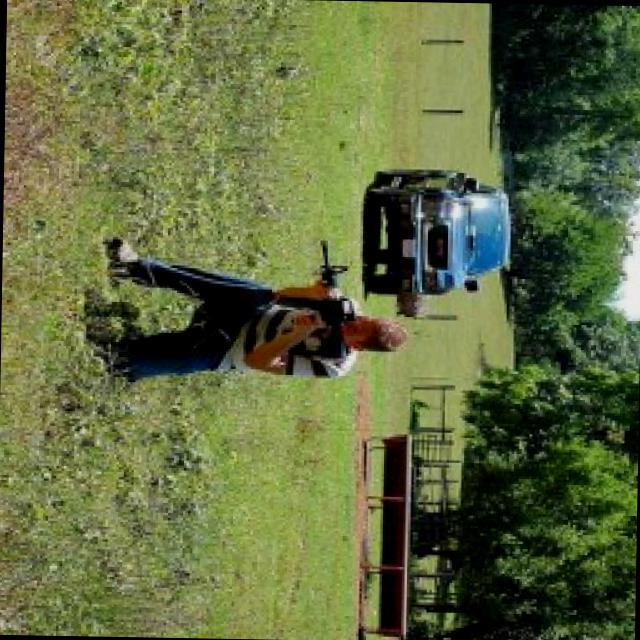long weapon: (282, 242, 354, 368)
